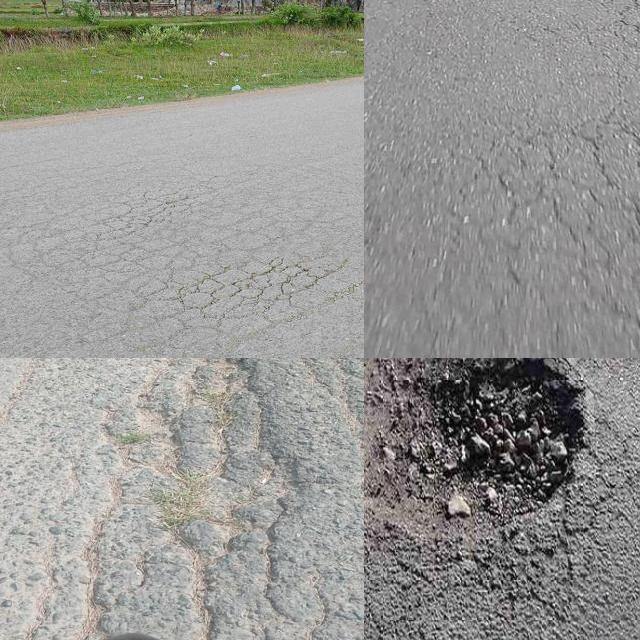Lubang: (364, 358, 583, 539)
Retak Buaya: (47, 358, 364, 640), (480, 116, 640, 358), (163, 258, 322, 331), (67, 169, 187, 254)
